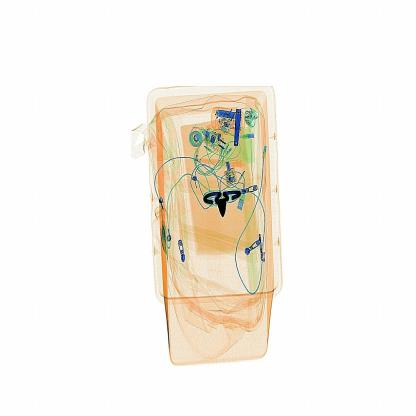gun: (201, 179, 254, 222)
